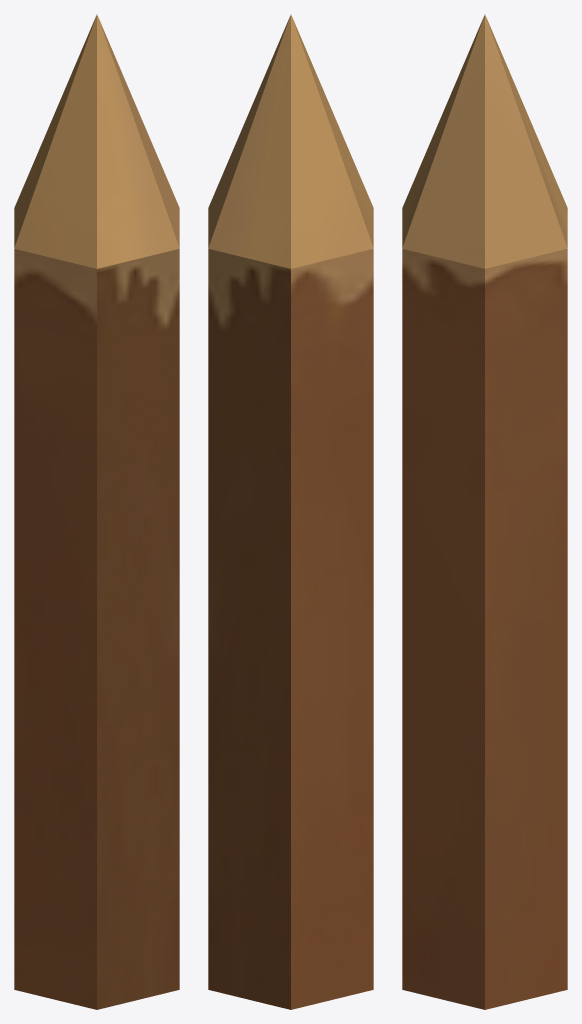
Rendered from wall_02.fbx.
3 renders of one model, left to right at view 1: azimuth 30°, elevation 25°; view 2: azimuth 150°, elevation 25°; view 3: azimuth 270°, elevation 25°, orthographic.
Visible parts, largest first — view 1: wall_02; view 2: wall_02; view 3: wall_02.
Part boxes in pixels (x1,y1,x2,y2): wall_02: [14, 14, 179, 1009]; wall_02: [208, 14, 373, 1009]; wall_02: [402, 14, 567, 1009].
Bounding box in the file's own units: 36.18 × 199 × 31.33.
